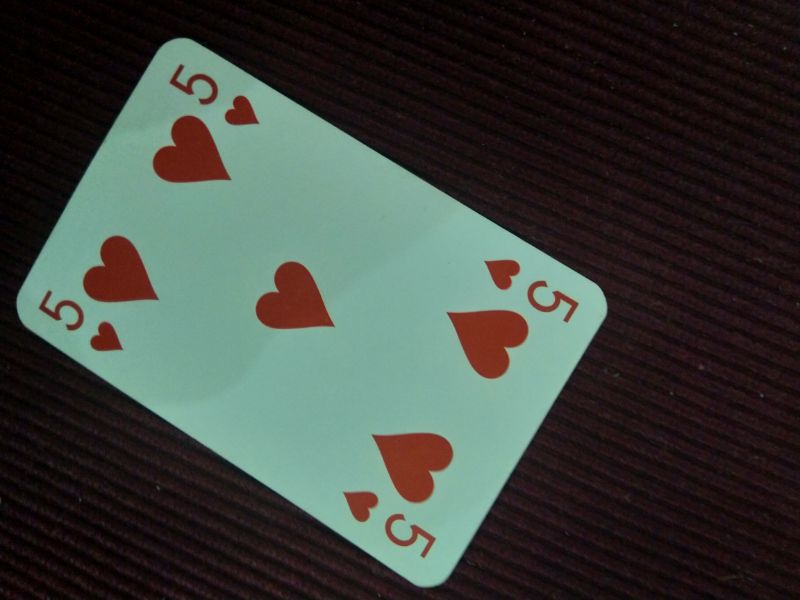5h: (334, 485, 441, 564), (478, 253, 582, 325), (166, 61, 263, 132), (35, 288, 131, 355)
